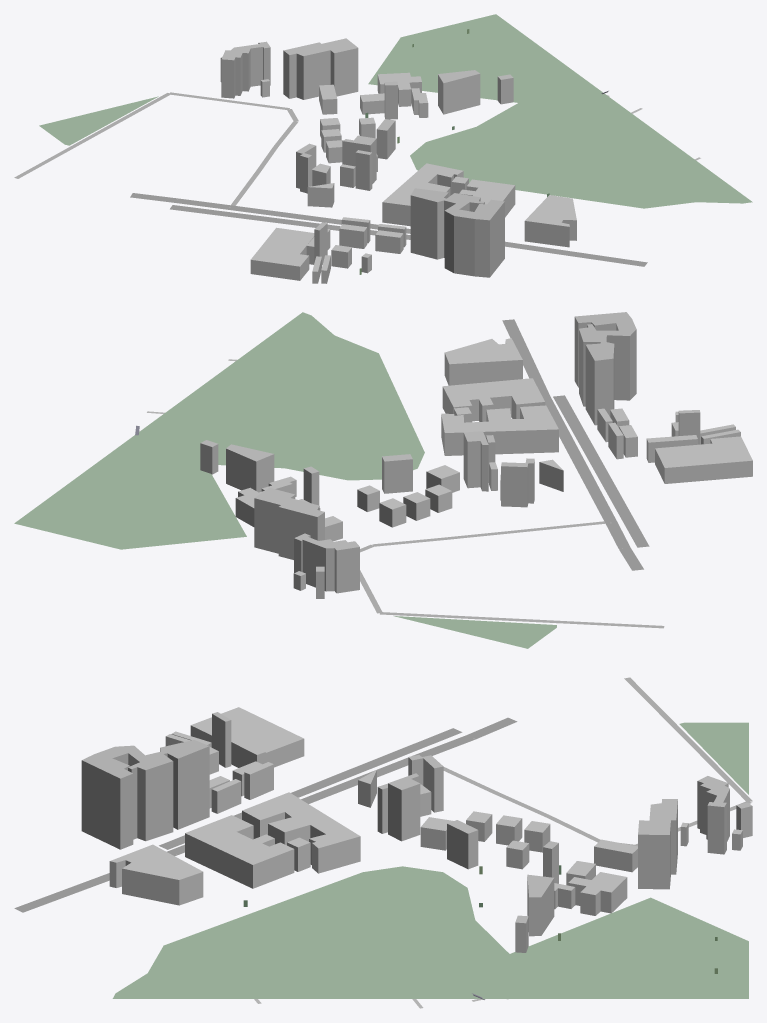
The picture shows the model from 3 angles, top to bottom: view 1: azimuth 30°, elevation 25°; view 2: azimuth 150°, elevation 25°; view 3: azimuth 270°, elevation 25°; orthographic projection. The views are drawn at different scales.
Size of the model in its own units: 595 by 62.47 by 565.
